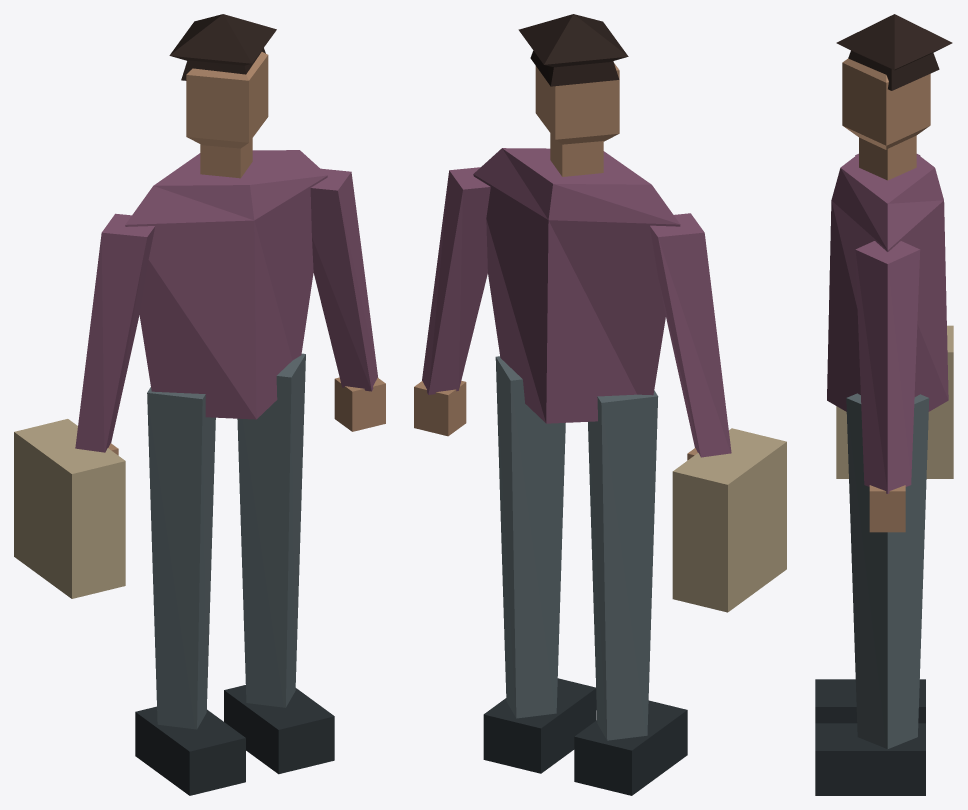
The model's file is pedestrian-tote.lod1.glb.
The picture shows the model from 3 angles, left to right: view 1: azimuth 30°, elevation 25°; view 2: azimuth 150°, elevation 25°; view 3: azimuth 270°, elevation 25°; orthographic projection. The views are drawn at different scales.
Visible parts, largest first — view 1: pedestrian-body; view 2: pedestrian-body; view 3: pedestrian-body.
Part boxes in pixels (bbox=[...]): pedestrian-body: bbox=[14, 14, 385, 795]; pedestrian-body: bbox=[414, 14, 786, 795]; pedestrian-body: bbox=[815, 14, 953, 795].
Size of the model in its own units: 0.7551 by 1.6 by 0.2686.
